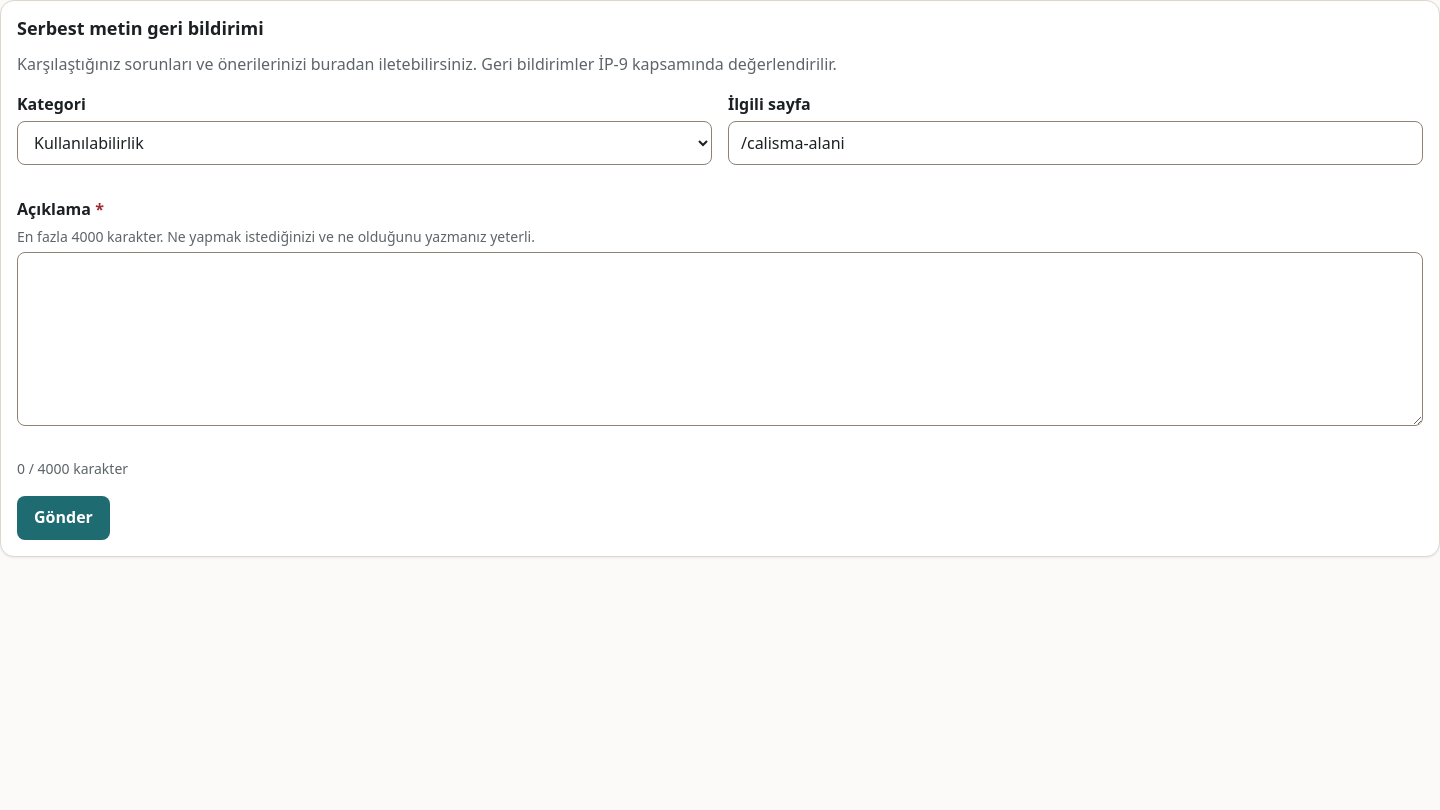
Test: free-text feedback › asks for a description before it sends anything
Click the button "Gönder" at (63, 518), box top-left (17, 496), bottom-right (110, 540)
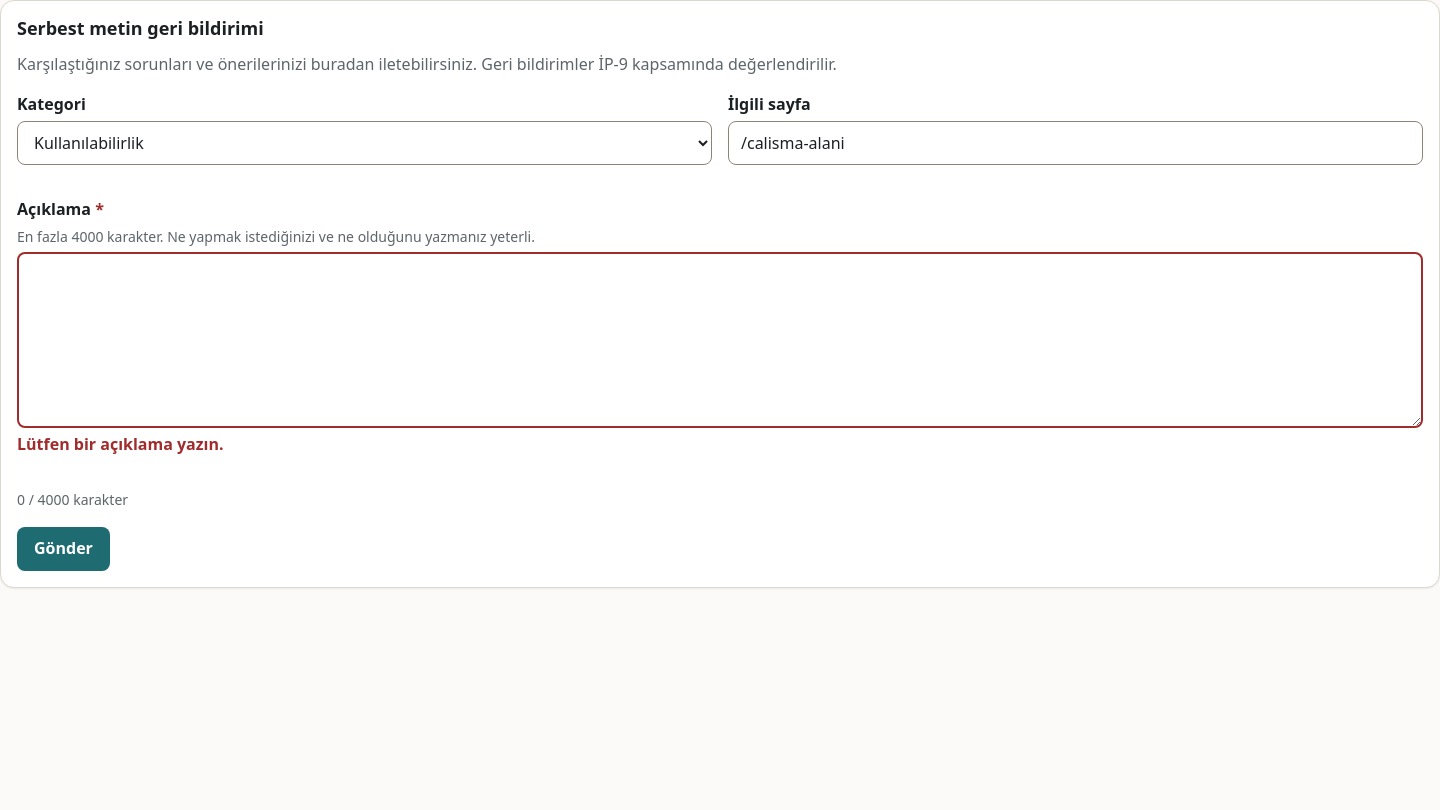
Now the text "Lütfen bir açıklama yazın." is shown, box top-left (17, 433), bottom-right (224, 455)
